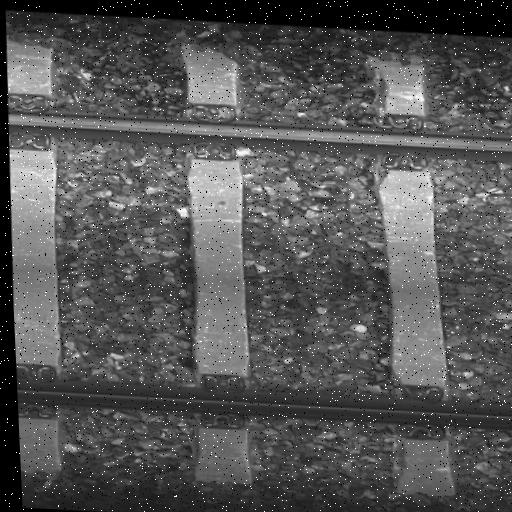clips: (193, 373, 241, 431), (189, 103, 236, 162), (16, 364, 60, 423), (8, 94, 52, 153), (393, 385, 439, 440), (385, 114, 428, 172)
sleepers: (173, 41, 255, 485), (374, 52, 450, 498), (1, 31, 70, 476)
